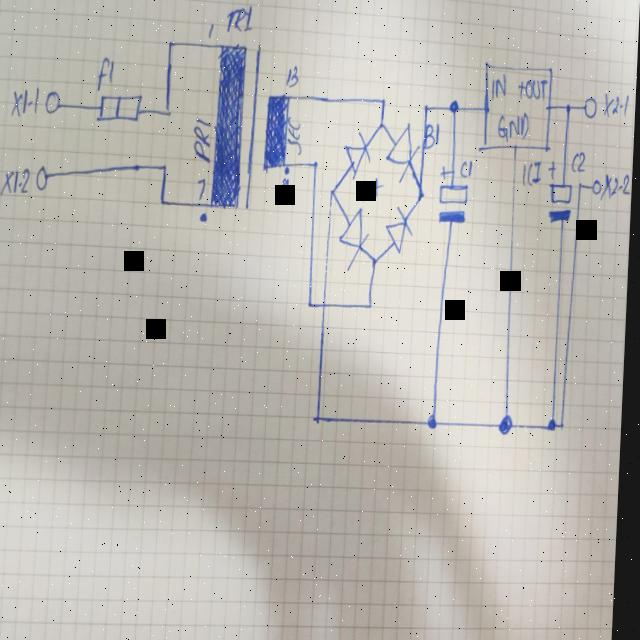capacitor: (438, 163, 472, 227), (546, 158, 576, 226)
crossover: (322, 298, 330, 312)
diode: (339, 205, 373, 271), (386, 122, 423, 182), (344, 128, 374, 180), (386, 204, 416, 254)
junction: (500, 412, 518, 436), (429, 410, 442, 430), (449, 96, 461, 115), (163, 104, 174, 120), (417, 186, 428, 202), (550, 416, 560, 432), (564, 98, 574, 114), (165, 36, 176, 50), (316, 412, 325, 426), (160, 194, 168, 208), (161, 159, 169, 173), (372, 252, 380, 266), (423, 100, 431, 114), (379, 94, 388, 106), (368, 298, 377, 310), (378, 118, 387, 130), (308, 298, 317, 310), (561, 418, 569, 431), (330, 186, 338, 198), (312, 158, 320, 170), (578, 178, 586, 190)
terminal: (45, 88, 62, 115), (583, 95, 599, 120), (35, 165, 50, 191), (592, 177, 604, 197)
text: (496, 108, 531, 140), (192, 116, 214, 165), (11, 86, 40, 116), (225, 5, 254, 34), (1, 168, 32, 195), (601, 173, 633, 199), (516, 76, 547, 102), (603, 91, 630, 117), (287, 116, 304, 156), (96, 55, 115, 89), (522, 158, 543, 186), (422, 120, 441, 150), (492, 72, 509, 100), (284, 62, 300, 88), (571, 149, 588, 173), (276, 176, 291, 201), (369, 174, 385, 197), (197, 175, 208, 201), (460, 158, 474, 178), (207, 20, 215, 41)
transformer: (200, 40, 297, 224)
